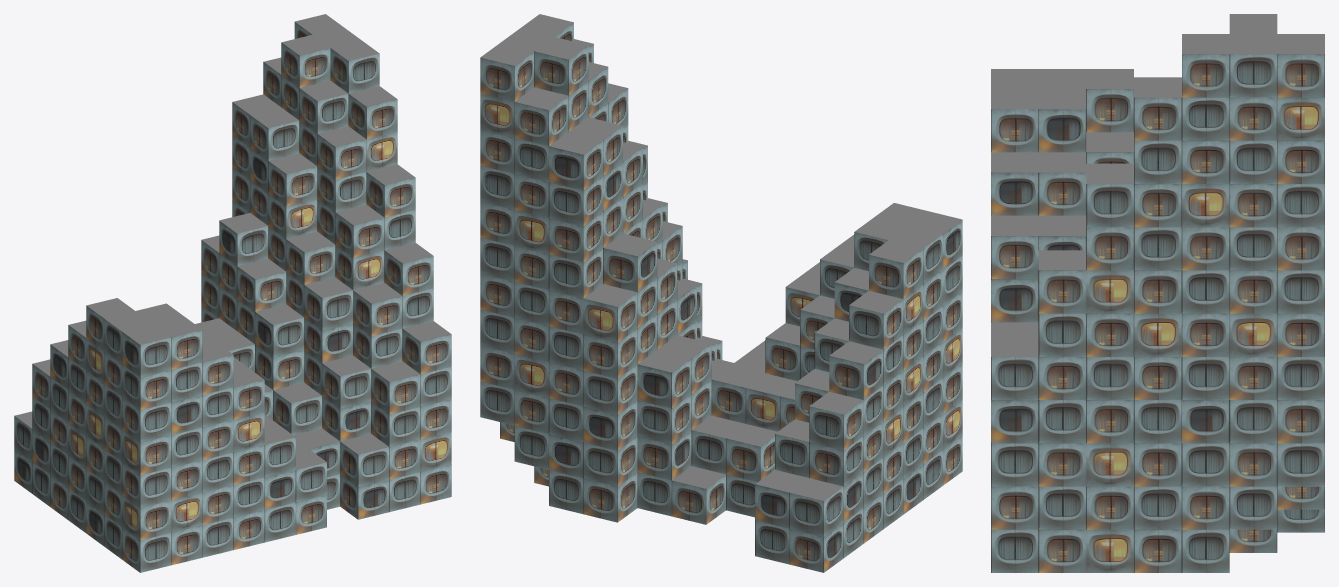
The model's file is archweekend_1_11.glb.
The picture shows the model from 3 angles, left to right: view 1: azimuth 30°, elevation 25°; view 2: azimuth 150°, elevation 25°; view 3: azimuth 270°, elevation 25°; orthographic projection. The views are drawn at different scales.
Visible parts, largest first — view 1: house-6; view 2: house-6; view 3: house-6.
Boxes of the visible parts, x1,y1,x2,y2 form: house-6: (14, 14, 451, 572); house-6: (480, 14, 962, 572); house-6: (991, 14, 1324, 572).
Bounding box in the file's own units: 30 × 36 × 21.
Materials: 2 (1 with a texture image).
